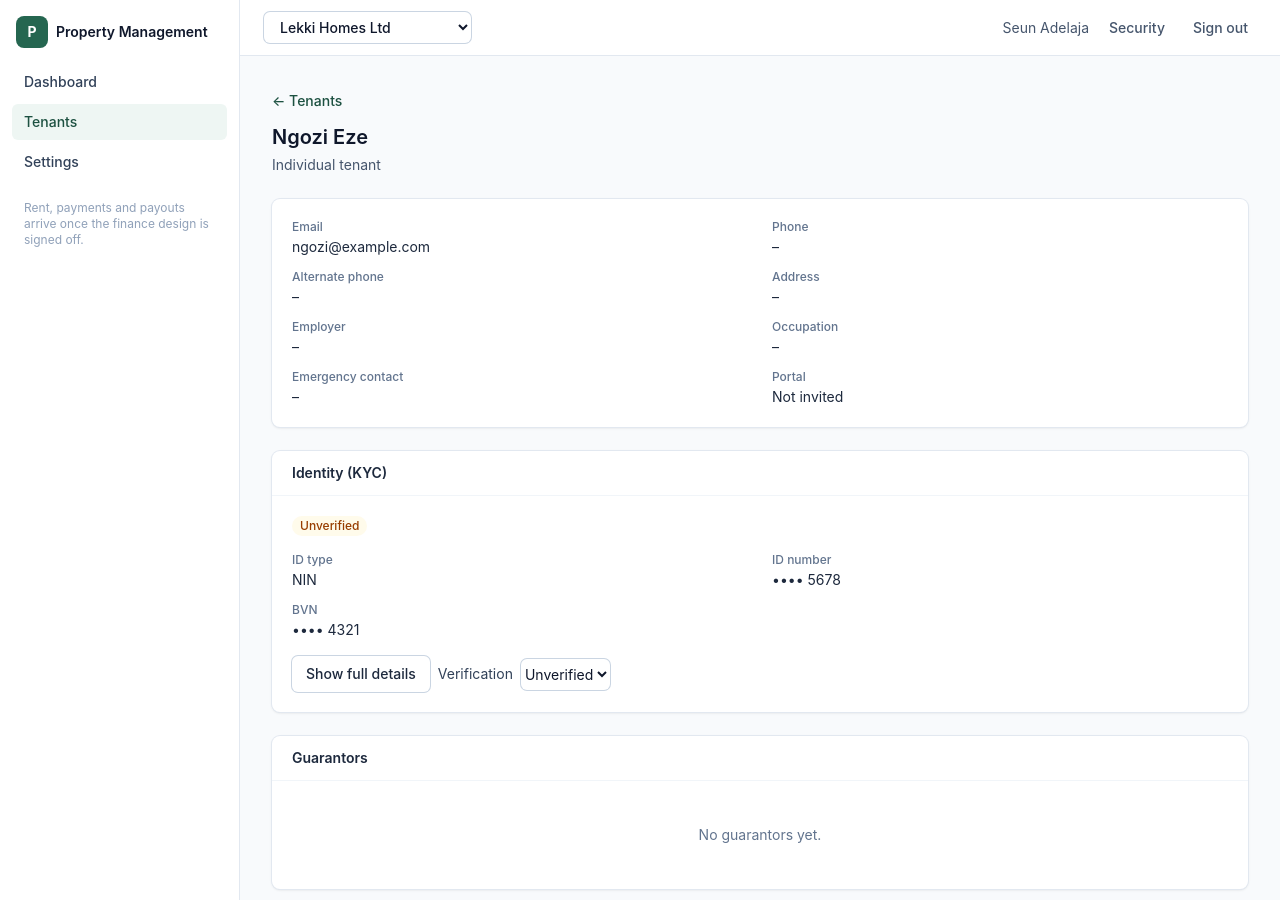
Test: tenant KYC panel › reveals the full numbers on request with Tenants.ViewKyc
Click the button "Show full details".
click(361, 674)  # box [292, 656, 430, 692]
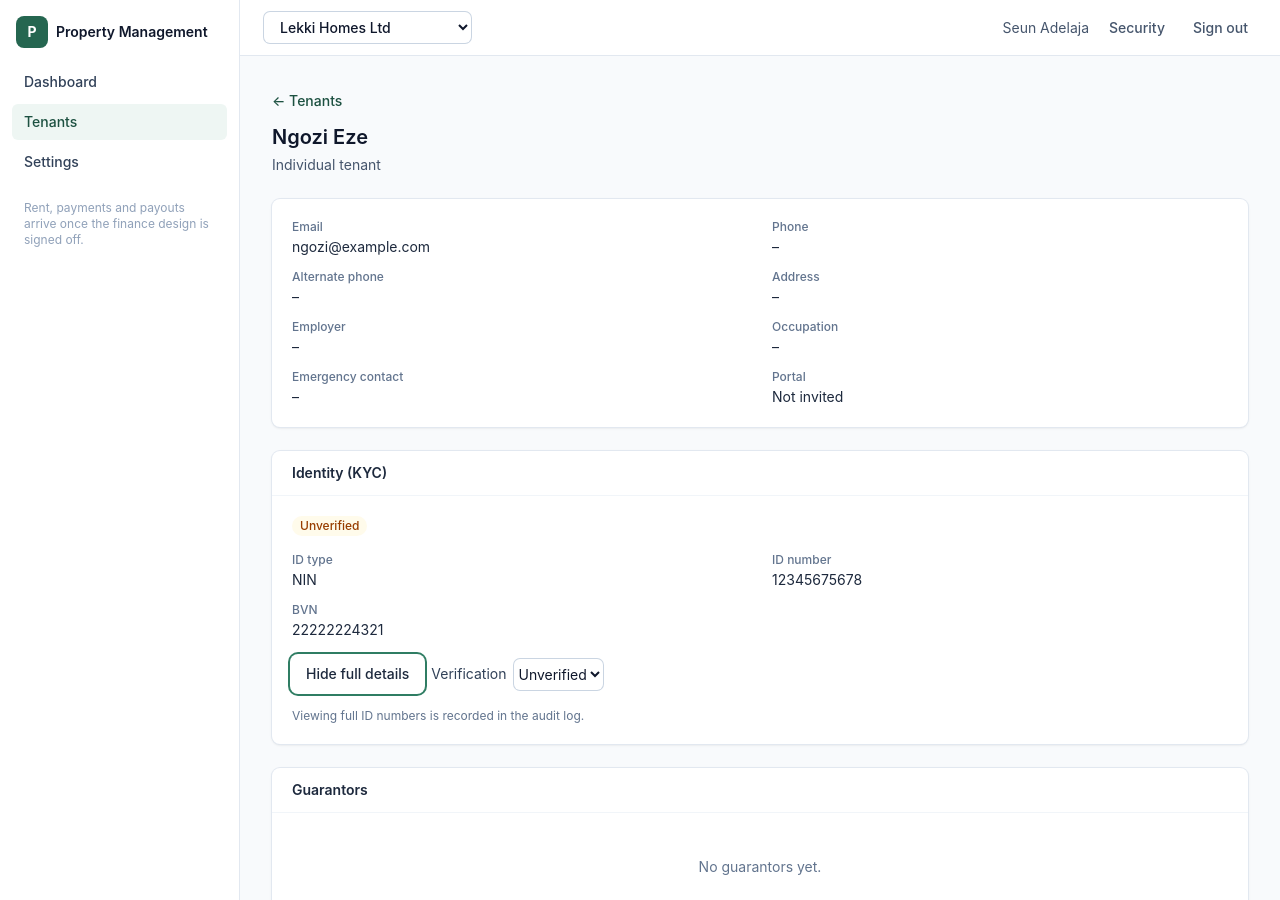
expect the dropdown labelled "Verification" is shown: met, box [514, 658, 604, 690]
expect the text "12345675678" is shown: met, box [772, 571, 862, 588]
expect the text "22222224321" is shown: met, box [292, 621, 384, 638]
